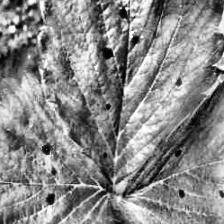Leaf Spot: (36, 0, 224, 191), (0, 70, 116, 224), (111, 73, 224, 224)
